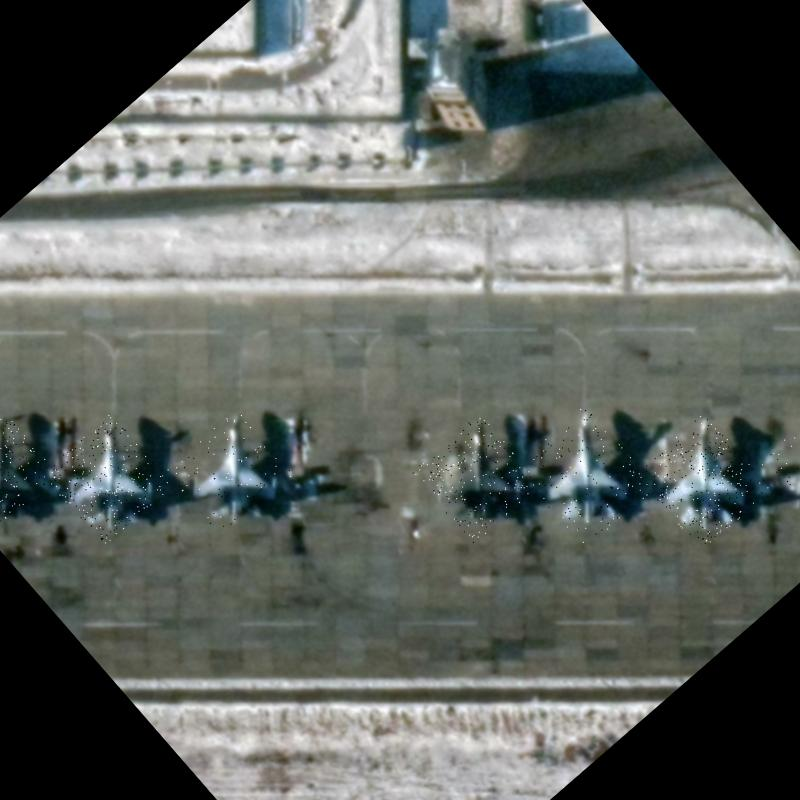A1: (514, 404, 657, 549), (41, 412, 174, 546), (411, 411, 544, 544), (163, 408, 294, 539), (0, 409, 59, 530)
A19: (635, 412, 772, 551), (758, 397, 800, 543)
